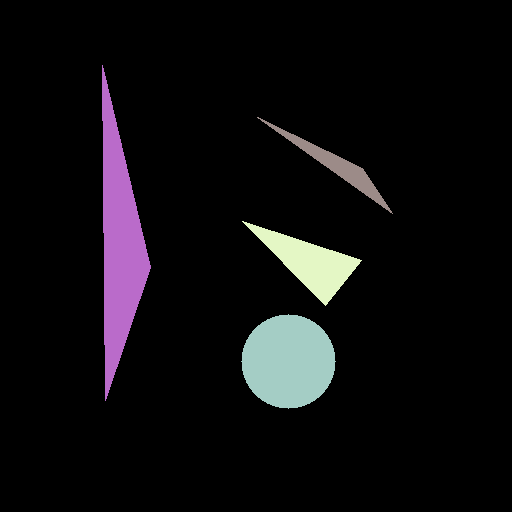circle: (241, 314, 335, 408)
triangle: (102, 65, 150, 400), (257, 117, 392, 213), (242, 221, 361, 305)
